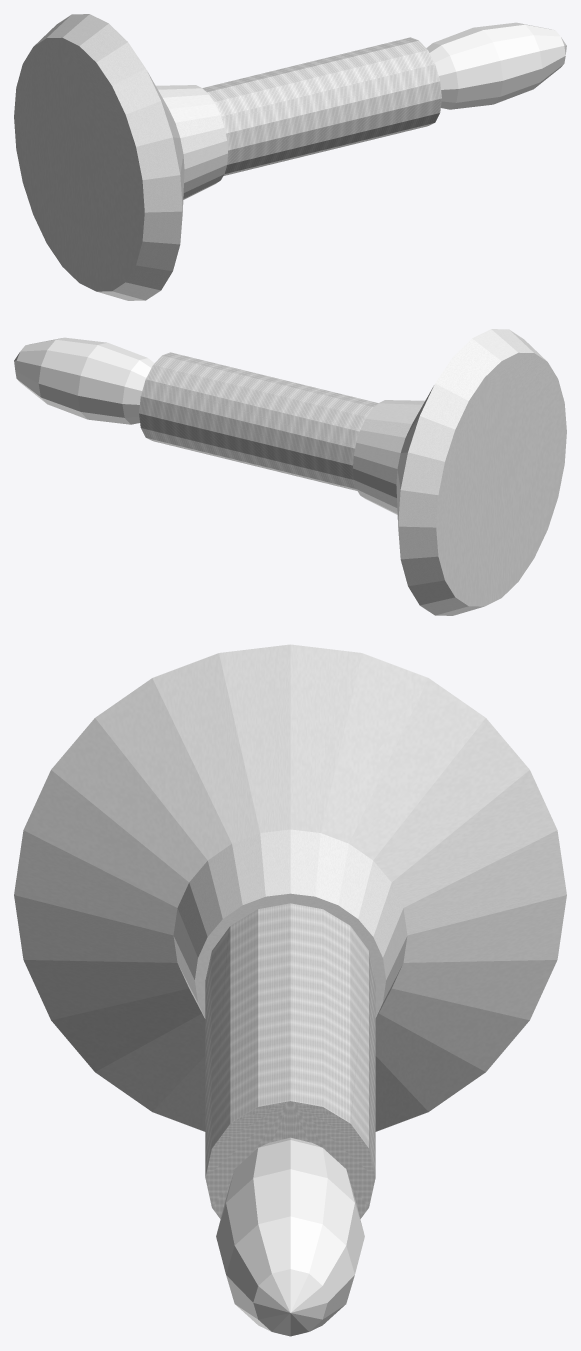
File: windowcandlelamp.obj
3 renders of one model, top to bottom at view 1: azimuth 30°, elevation 25°; view 2: azimuth 150°, elevation 25°; view 3: azimuth 270°, elevation 25°, orthographic. The views are drawn at different scales.
Visible parts, largest first — view 1: Base, Shade, Light0, Metal; view 2: Base, Shade, Light0, Metal; view 3: Metal, Shade, Light0.
Part boxes in pixels (x1=…): Base: x1=14, y1=14, x2=182, y2=300; Shade: x1=202, y1=37, x2=441, y2=175; Light0: x1=426, y1=22, x2=566, y2=109; Metal: x1=147, y1=71, x2=227, y2=210; Base: x1=398, y1=329, x2=566, y2=615; Shade: x1=139, y1=352, x2=378, y2=490; Light0: x1=14, y1=337, x2=154, y2=424; Metal: x1=353, y1=386, x2=433, y2=525; Metal: x1=14, y1=644, x2=566, y2=1131; Shade: x1=205, y1=903, x2=375, y2=1218; Light0: x1=216, y1=1137, x2=364, y2=1336.
Size of the model in its own units: 0.495 by 0.26 by 0.26.
